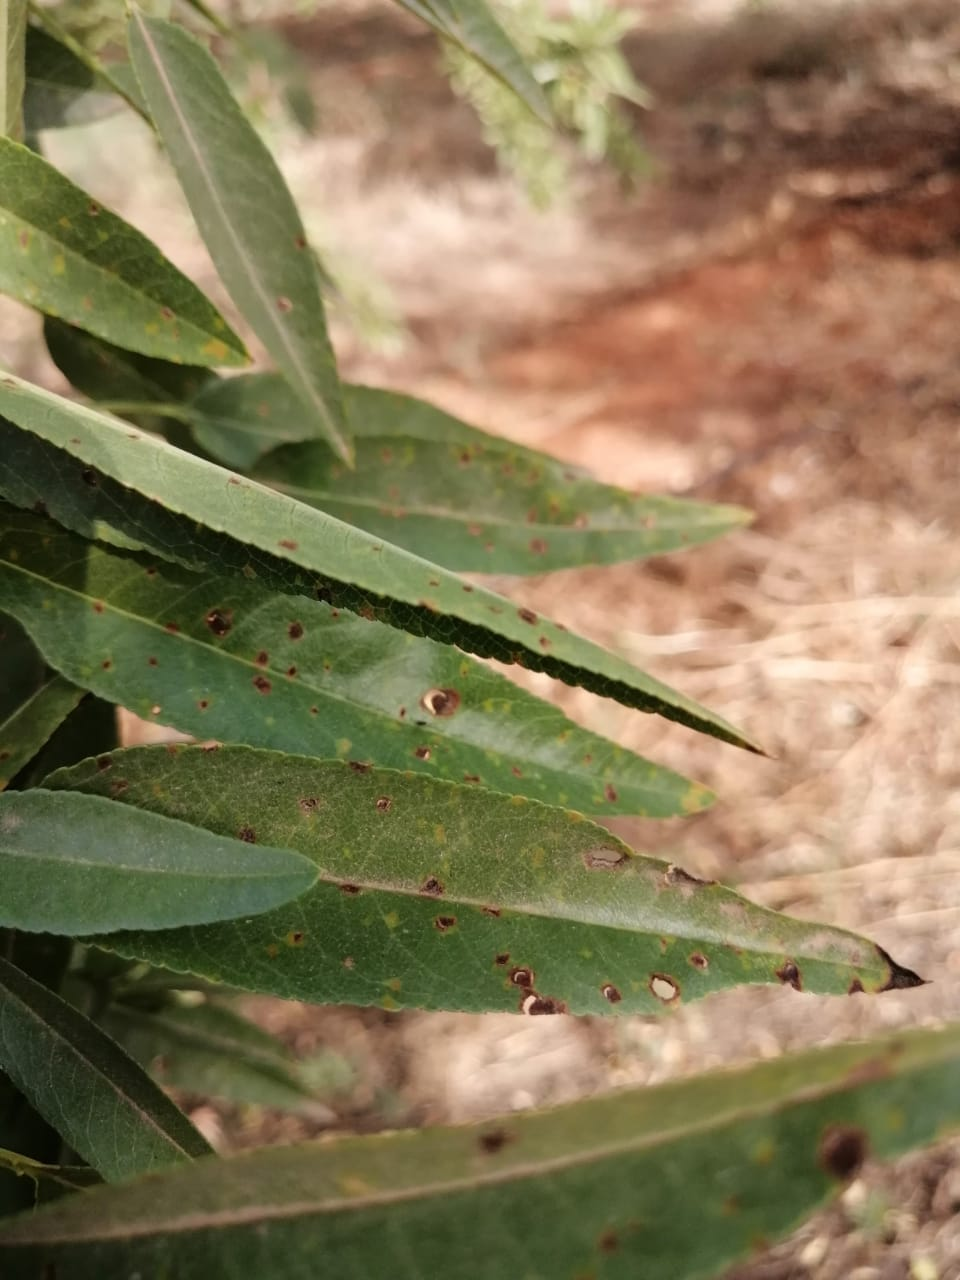coryneum: (1, 368, 781, 760), (1, 740, 930, 1017), (1, 511, 722, 822)
